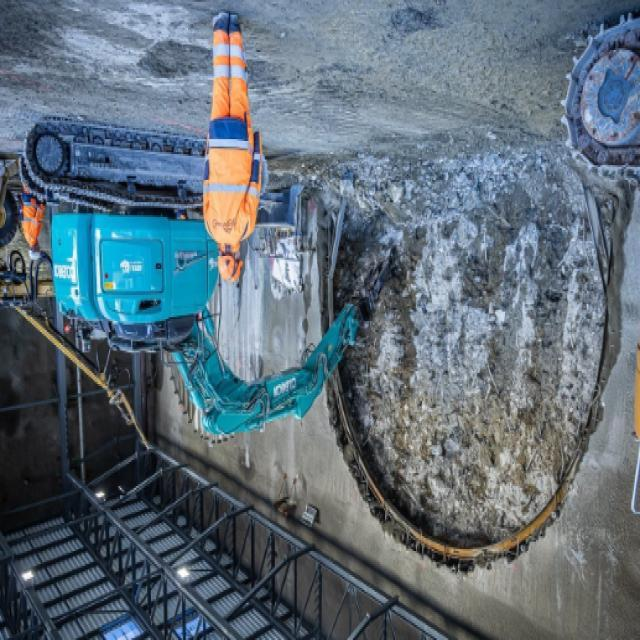boots: (208, 8, 246, 40)
helmet: (215, 244, 247, 286), (28, 239, 42, 265)
vest: (199, 119, 265, 252), (20, 194, 46, 250)
